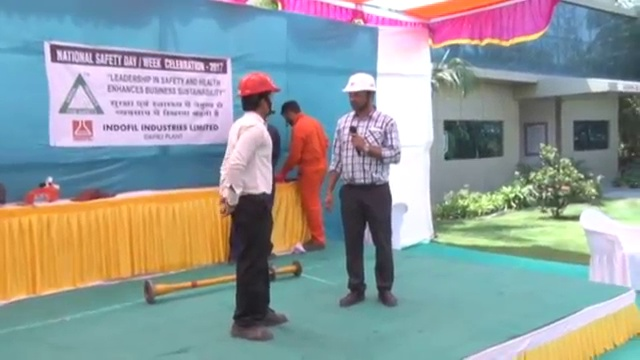helmet: (236, 70, 282, 97), (340, 70, 380, 95)
helmet_off: (277, 97, 305, 125)
helmet_on: (235, 69, 284, 121), (340, 69, 381, 120)
person: (322, 67, 403, 309), (218, 70, 289, 343), (279, 97, 328, 253)
